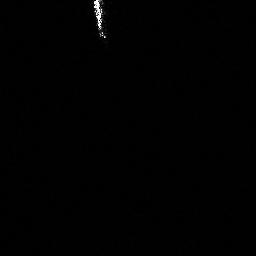ship: (92, 1, 108, 40)
